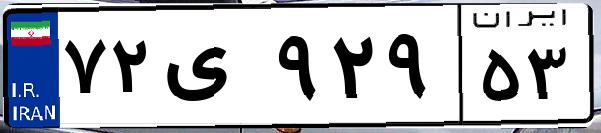2: (330, 28, 385, 110), (110, 28, 158, 98)
3: (525, 38, 570, 115)
5: (475, 38, 525, 113)
7: (57, 26, 110, 100)
9: (270, 28, 330, 110), (385, 28, 445, 110)
ی: (158, 20, 270, 120)
